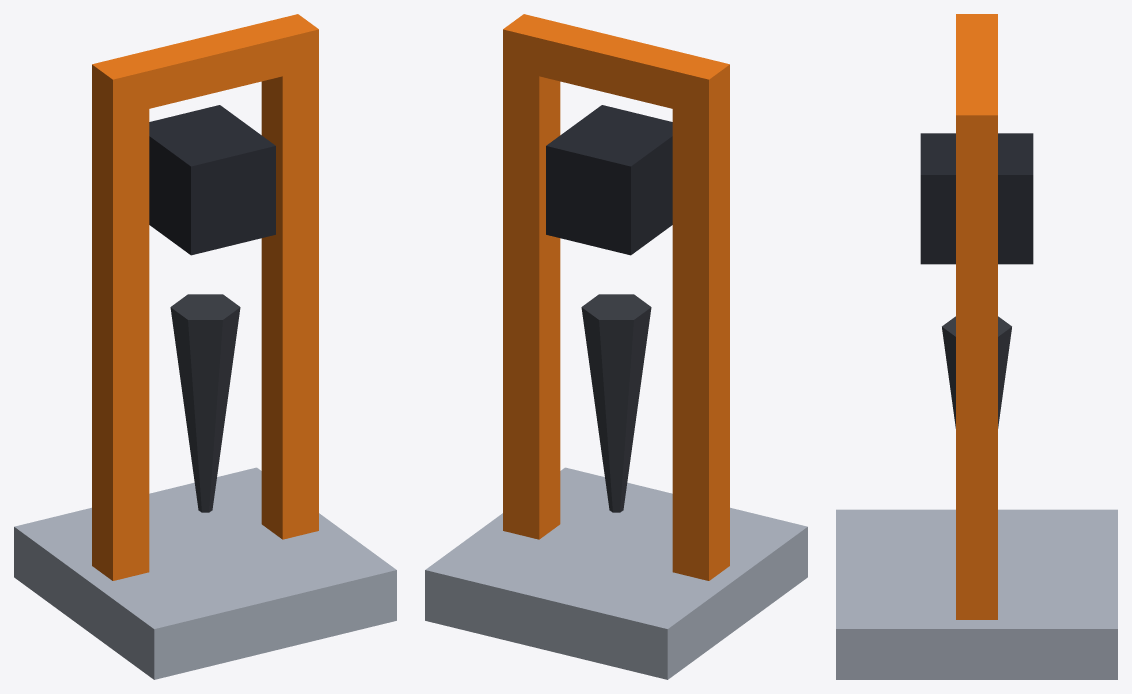
File: lunar-mining-drill.glb
3 renders of one model, left to right at view 1: azimuth 30°, elevation 25°; view 2: azimuth 150°, elevation 25°; view 3: azimuth 270°, elevation 25°, orthographic.
Parts seen in each view (by area): view 1: mining_drill; view 2: mining_drill; view 3: mining_drill.
Boxes of the visible parts, bbox=[...] form: mining_drill: bbox=[14, 14, 396, 679]; mining_drill: bbox=[425, 14, 807, 679]; mining_drill: bbox=[836, 14, 1117, 679].
Size of the model in its own units: 2 by 4.35 by 2.
